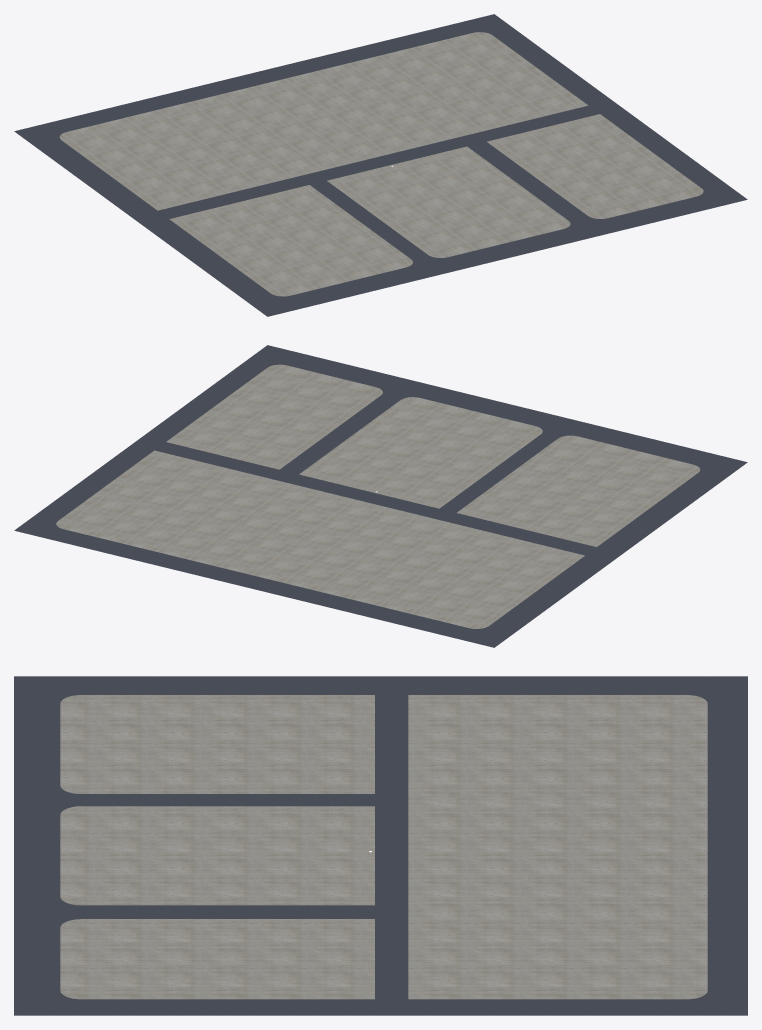
File: Refineary42_Hole.fbx
3 renders of one model, top to bottom at view 1: azimuth 30°, elevation 25°; view 2: azimuth 150°, elevation 25°; view 3: azimuth 270°, elevation 25°, orthographic. The views are drawn at different scales.
Parts seen in each view (by area): view 1: Refinery42; view 2: Refinery42; view 3: Refinery42.
Part boxes in pixels (<box>): Refinery42: <box>14,14,747,316</box>; Refinery42: <box>14,345,747,647</box>; Refinery42: <box>14,676,747,1015</box>.
Bounding box in the file's own units: 136 × 1.95e-05 × 124.
